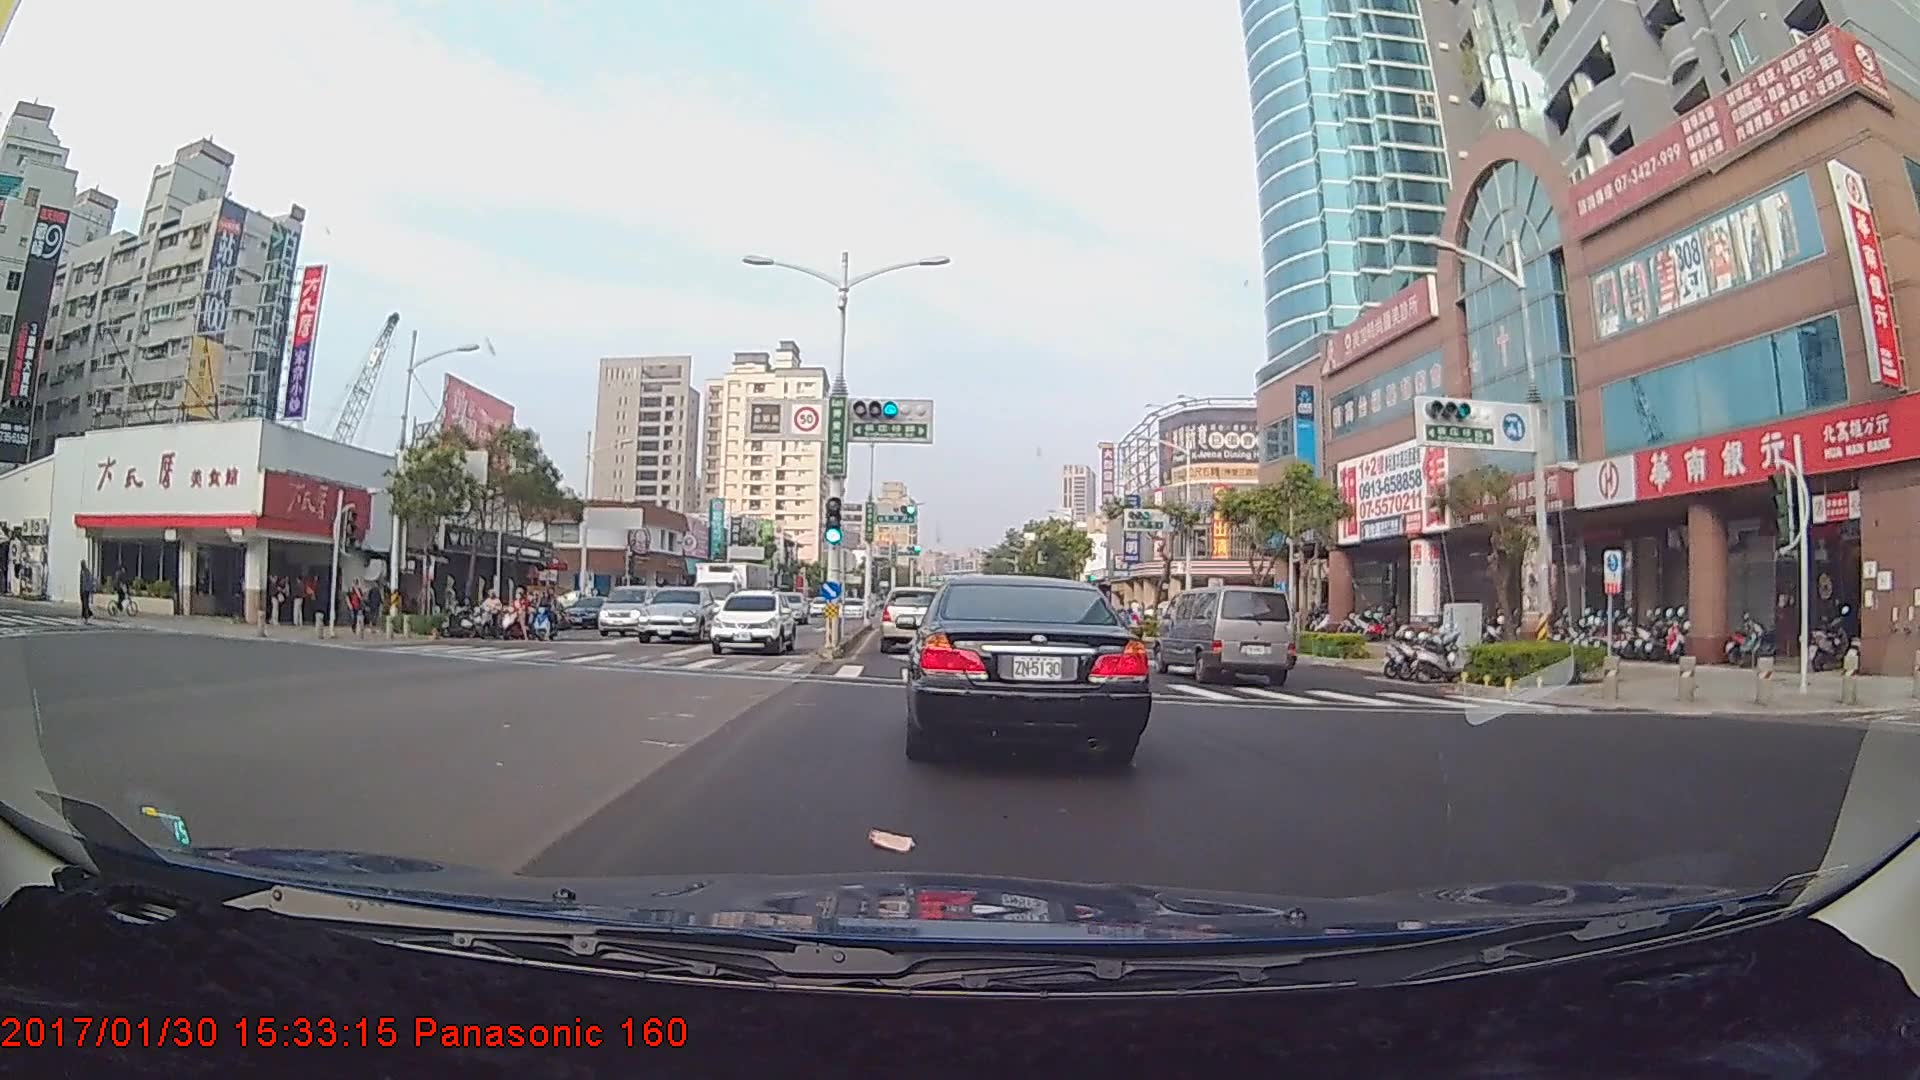pedestrian: (339, 579, 365, 635), (76, 556, 97, 623), (265, 570, 285, 631), (287, 575, 308, 629)
rider: (521, 584, 562, 644), (492, 586, 526, 641), (469, 588, 504, 642), (106, 570, 141, 619)
vehicle: (907, 569, 1146, 763), (1158, 582, 1295, 688), (697, 556, 778, 637), (710, 588, 797, 655), (877, 583, 947, 654), (635, 586, 715, 645), (594, 581, 659, 636)
